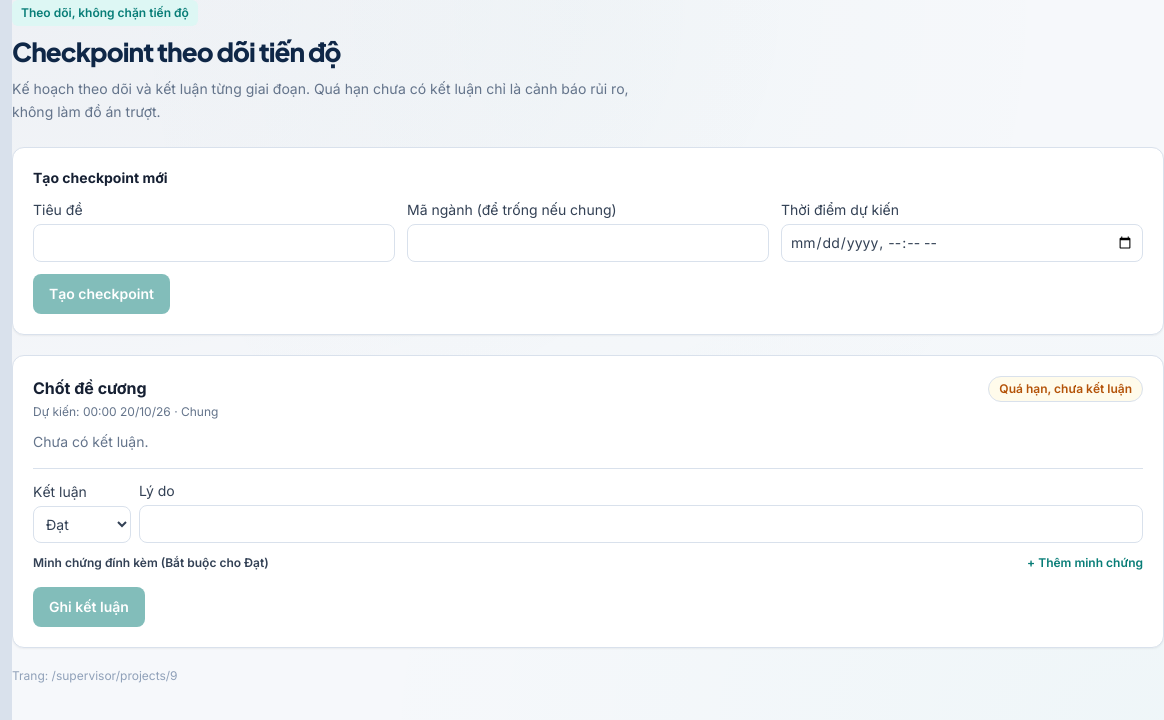
Test case: ProjectGatesPage › prevents concluding MET without evidence for a workflow-blocking checkpoint
This screenshot has width=1164, height=720.
Expected: the heading "Chốt đề cương" is shown, [33,378,147,398]
Type "Đạt không có bằng chứng" into the field labelled "Lý do" at (641, 524), box [139,505,1143,543]
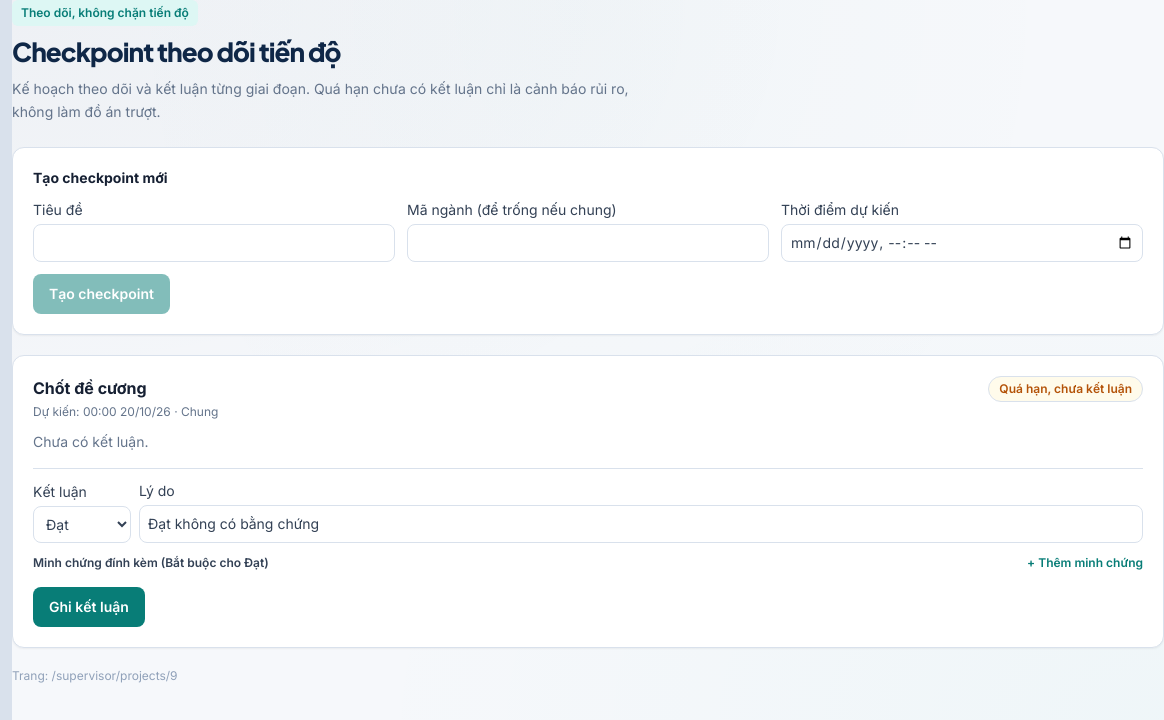
Click the button "Ghi kết luận" at (89, 607), box [33,587,145,627]
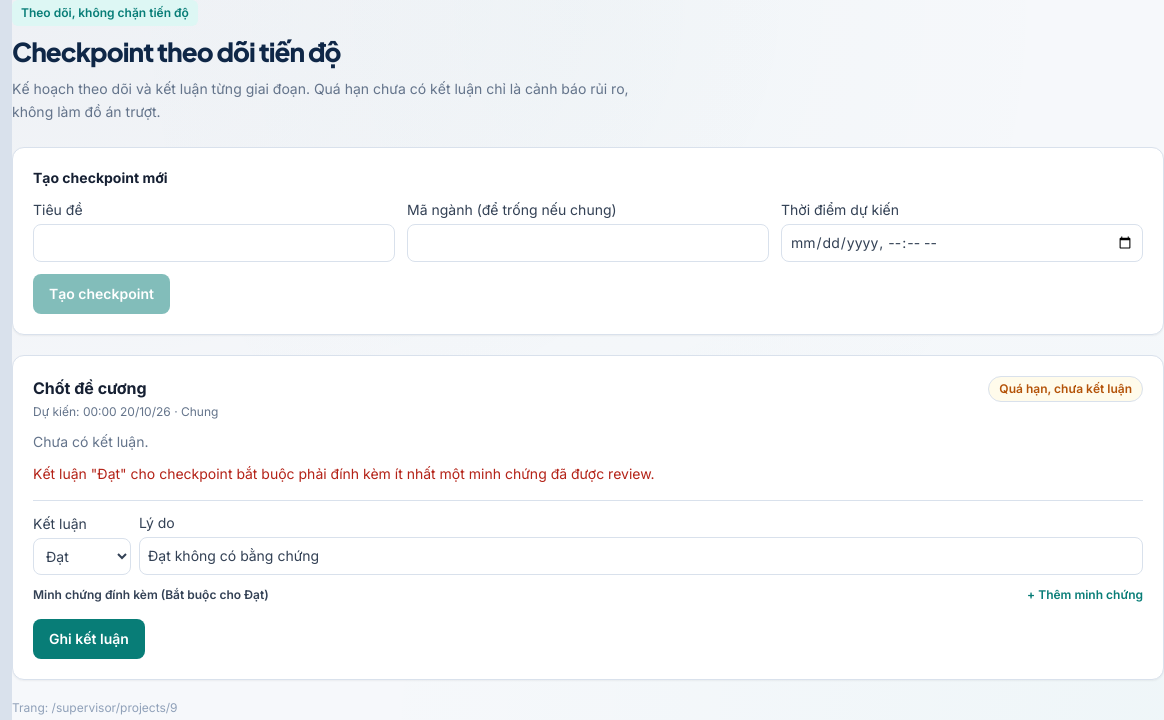
Now the text "bắt buộc phải đính kèm ít nhất một minh chứng" is shown, box [33,465,655,482]
